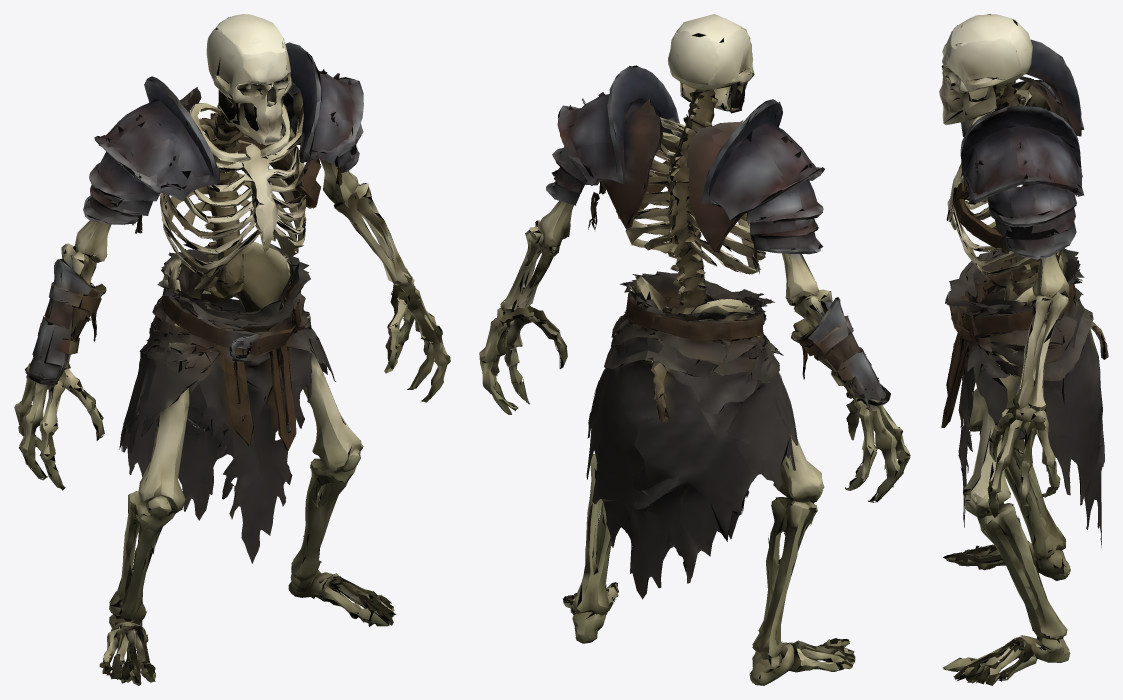
The model's file is undead.fbx.
3 renders of one model, left to right at view 1: azimuth 30°, elevation 25°; view 2: azimuth 150°, elevation 25°; view 3: azimuth 270°, elevation 25°, orthographic. The views are drawn at different scales.
Parts seen in each view (by area): view 1: geometry_0.001; view 2: geometry_0.001; view 3: geometry_0.001.
Boxes of the visible parts, x1,y1,x2,y2 form: geometry_0.001: (14, 14, 450, 685); geometry_0.001: (479, 14, 910, 685); geometry_0.001: (939, 14, 1108, 685).
Size of the model in its own units: 70.47 by 100 by 25.57.
Materials: 1 (1 with a texture image).
